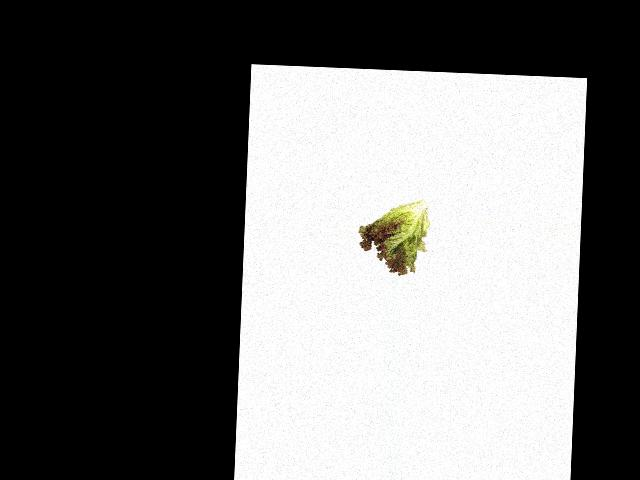lettuce: (357, 198, 429, 277)
